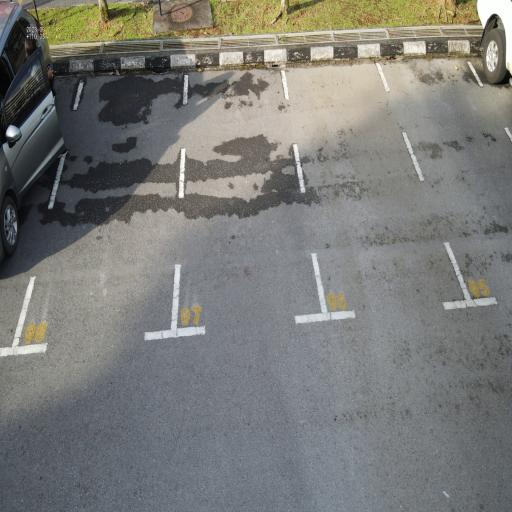Empty: (8, 62, 196, 360), (168, 64, 332, 342)
